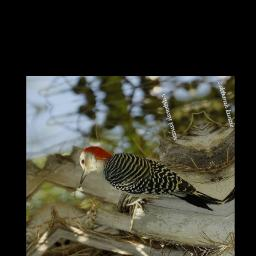Woodpecker: (69, 119, 225, 239)
